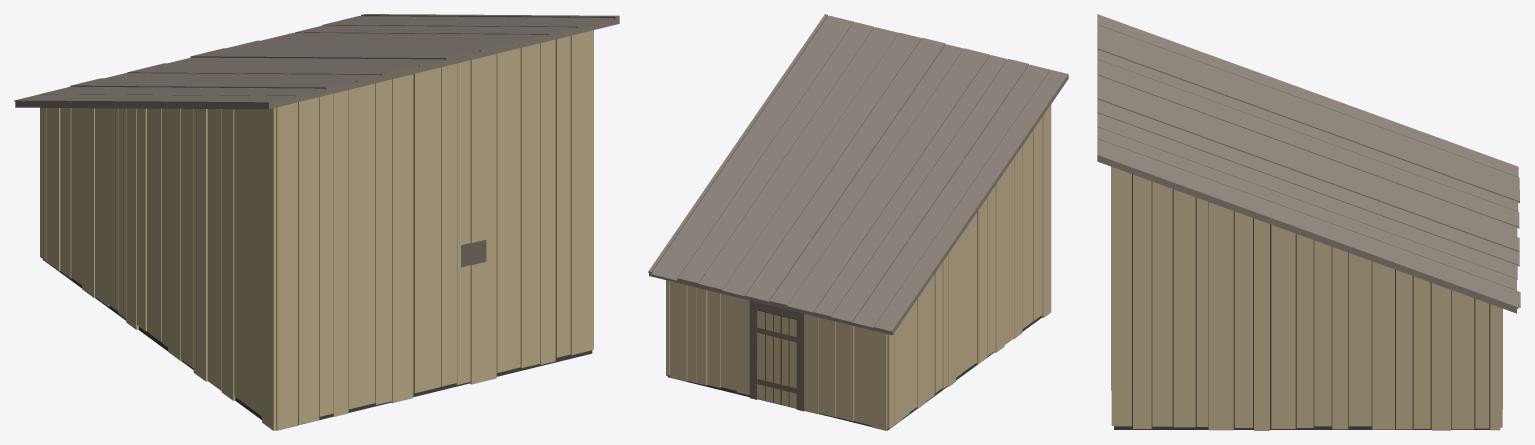
File: recon_1835_blk_south_water_lasalle_d2_05__inferred_1835.glb
3 renders of one model, left to right at view 1: azimuth 30°, elevation 25°; view 2: azimuth 150°, elevation 25°; view 3: azimuth 270°, elevation 25°, orthographic. The views are drawn at different scales.
Visible parts, largest first — view 1: recon_1835_blk_south_water_lasalle_d2_05__inferred_1835; view 2: recon_1835_blk_south_water_lasalle_d2_05__inferred_1835; view 3: recon_1835_blk_south_water_lasalle_d2_05__inferred_1835.
Boxes of the visible parts, x1,y1,x2,y2 form: recon_1835_blk_south_water_lasalle_d2_05__inferred_1835: (14,14,619,430); recon_1835_blk_south_water_lasalle_d2_05__inferred_1835: (648,14,1068,430); recon_1835_blk_south_water_lasalle_d2_05__inferred_1835: (1097,14,1520,430).
Bounding box in the file's own units: 5.31 × 4.94 × 6.71.
